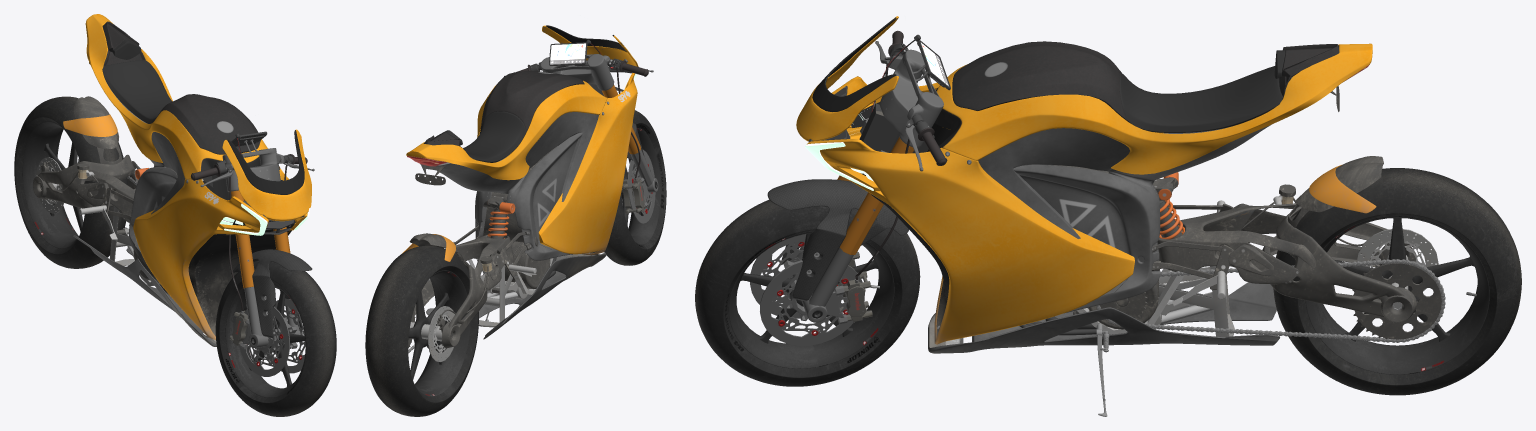
File: electric.glb
3 renders of one model, left to right at view 1: azimuth 30°, elevation 25°; view 2: azimuth 150°, elevation 25°; view 3: azimuth 270°, elevation 25°, orthographic. The views are drawn at different scales.
Parts seen in each view (by area): view 1: Object_22, Object_25, Object_2, Object_21, Object_20, Object_23, Object_18, Object_11, Object_17, Object_10, Object_15, Object_4 (+5 smaller); view 2: Object_2, Object_22, Object_23, Object_21, Object_25, Object_4, Object_18, Object_11, Object_7, Object_10, Object_20, Object_19 (+6 smaller); view 3: Object_22, Object_21, Object_2, Object_25, Object_23, Object_11, Object_24, Object_18, Object_17, Object_20, Object_10, Object_4 (+7 smaller).
Part boxes in pixels (x1,y1,x2,y2): Object_22: [85, 14, 280, 187]; Object_25: [215, 260, 336, 416]; Object_2: [14, 96, 127, 268]; Object_21: [133, 168, 307, 340]; Object_20: [188, 129, 311, 335]; Object_23: [72, 78, 216, 346]; Object_18: [186, 133, 307, 336]; Object_11: [47, 96, 140, 222]; Object_17: [200, 162, 314, 358]; Object_10: [38, 154, 138, 208]; Object_15: [224, 133, 304, 376]; Object_4: [40, 163, 177, 280]; Object_2: [365, 245, 478, 416]; Object_22: [406, 71, 607, 180]; Object_23: [426, 112, 606, 339]; Object_21: [538, 73, 637, 255]; Object_25: [604, 110, 666, 265]; Object_4: [407, 156, 550, 353]; Object_18: [504, 43, 653, 186]; Object_11: [402, 156, 517, 315]; Object_7: [476, 146, 557, 306]; Object_10: [414, 260, 487, 335]; Object_20: [542, 25, 638, 253]; Object_19: [549, 42, 648, 212]; Object_22: [934, 41, 1372, 174]; Object_21: [807, 76, 1134, 344]; Object_2: [1273, 168, 1521, 395]; Object_25: [695, 199, 920, 386]; Object_23: [928, 65, 1312, 353]; Object_11: [1157, 156, 1415, 342]; Object_24: [1013, 164, 1161, 313]; Object_18: [796, 30, 971, 306]; Object_17: [767, 41, 923, 320]; Object_20: [796, 16, 954, 336]; Object_10: [1262, 206, 1405, 317]; Object_4: [1088, 64, 1425, 352].
Bounding box in the file's own units: 0.6104 × 1.19 × 2.32.
7 materials, 7 textured.
